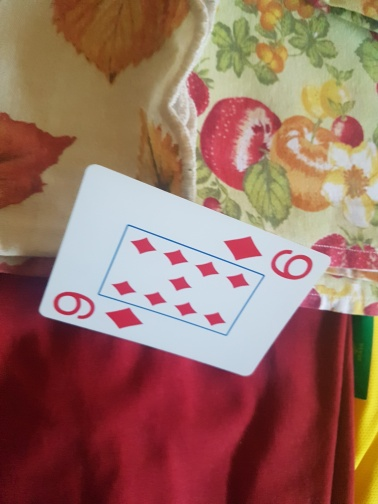nine: (37, 165, 332, 375)
